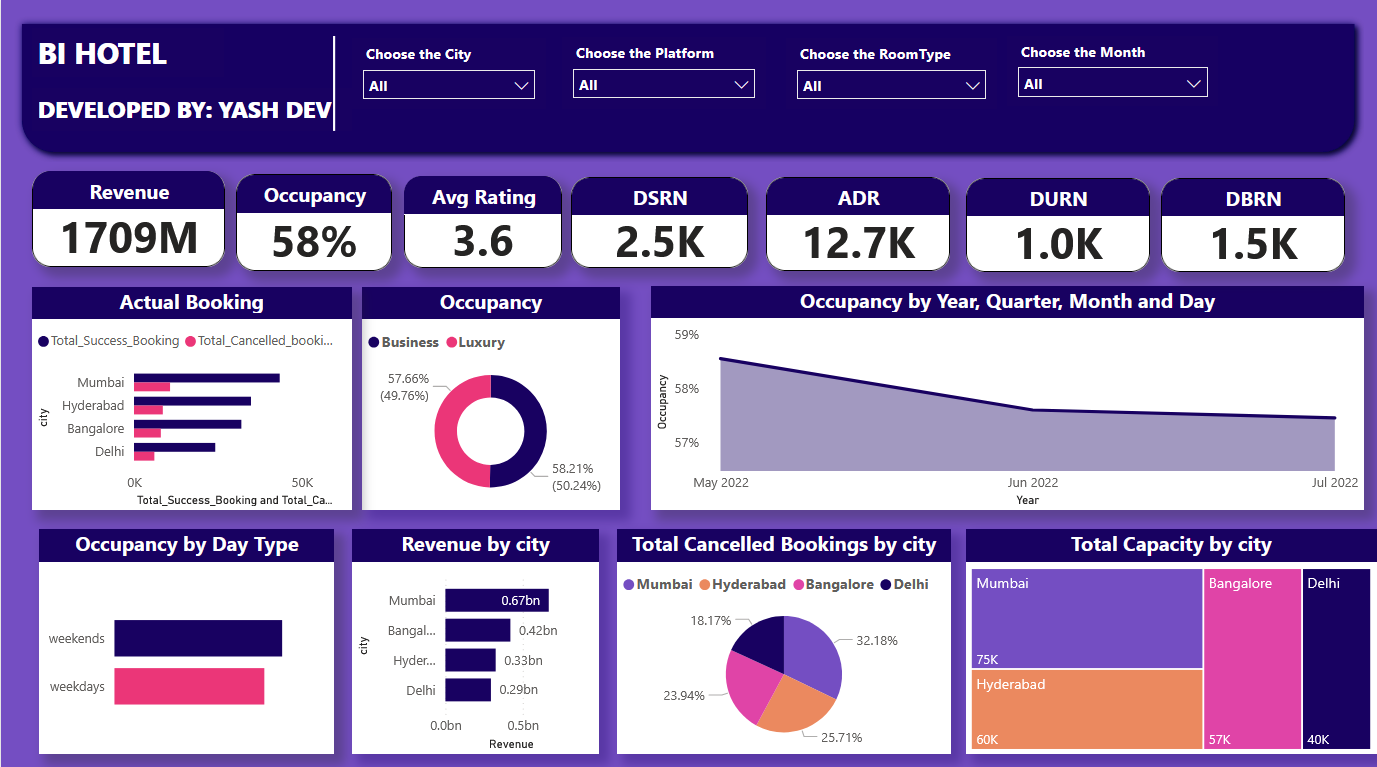

The dashboard page shown, as its layout file describes it:
{"tool":"powerbi","page":{"name":"Page 1","canvas":[1280,720],"ordinal":0},"visuals":[{"type":"shape","box":[10.8,14.8,1257.4,137.2],"z":0},{"type":"textbox","box":[29.3,28.1,178.5,45.2],"z":1000},{"type":"textbox","box":[29.6,83.4,297.2,40.3],"z":2000},{"type":"card","title":"Revenue","fields":{"Values":["key_measure_table.Revenue"]},"box":[29.5,161,179.4,89.7],"z":3000},{"type":"card","title":"Occupancy","fields":{"Values":["key_measure_table.Occupancy"]},"box":[218.7,163.4,145,89.7],"z":4000},{"type":"card","title":"Avg Rating","fields":{"Values":["key_measure_table.Avg_Rating"]},"box":[374.7,164.6,147.4,86],"z":5000},{"type":"shape","box":[219.2,35,180.2,88.8],"z":6000},{"type":"slicer","title":"Choose the City","fields":{"Values":["Hotels.city"]},"box":[326.8,37.7,180.2,65.9],"z":7000},{"type":"slicer","fields":{"Values":["Bookings.booking_platform"]},"box":[521.8,36.3,189.6,67.2],"z":8000},{"type":"slicer","fields":{"Values":["Bookings.room_category"]},"box":[730.2,37.7,196.3,65.9],"z":9000},{"type":"slicer","fields":{"Values":["Date.mmm yy"]},"box":[936.2,38.1,196.6,66.3],"z":10000},{"type":"donutChart","title":"Occupancy","fields":{"Category":["Hotels.category"],"Y":["key_measure_table.Occupancy"]},"box":[336.3,269,239.7,207.9],"z":11000},{"type":"card","title":"DSRN","fields":{"Values":["key_measure_table.DSRN"]},"box":[530.8,165.9,164.6,84.8],"z":12000},{"type":"card","title":"ADR","fields":{"Values":["key_measure_table.ADR"]},"box":[711.4,165.9,170.8,87.2],"z":13000},{"type":"clusteredBarChart","title":"Actual Booking","fields":{"Category":["Hotels.city"],"Y":["key_measure_table.Total_Success_Booking","key_measure_table.Total_Cancelled_bookings"]},"box":[29.3,269,297.1,207.9],"z":14000},{"type":"card","title":"DURN","fields":{"Values":["key_measure_table.DURN"]},"box":[898.1,167.1,170.8,87.2],"z":15000},{"type":"barChart","title":"Occupancy by Day Type","fields":{"Category":["Date.Day_Type"],"Y":["key_measure_table.Occupancy"]},"box":[34.4,493.9,275.2,208.9],"z":16000},{"type":"lineChart","fields":{"Category":["Date.mmm yy.Variation.Date Hierarchy.Year","Date.mmm yy.Variation.Date Hierarchy.Quarter","Date.mmm yy.Variation.Date Hierarchy.Month","Date.mmm yy.Variation.Date Hierarchy.Day"],"Y":["key_measure_table.Occupancy"]},"box":[604.5,267.8,663.5,208.9],"z":17000},{"type":"barChart","fields":{"Category":["Hotels.city"],"Y":["key_measure_table.Revenue"]},"box":[326.8,493.9,229.8,208.9],"z":18000},{"type":"pieChart","title":"Total Cancelled Bookings by city","fields":{"Category":["Hotels.city"],"Y":["key_measure_table.Total_Cancelled_bookings"]},"box":[573.8,493.9,310.8,208.9],"z":19000},{"type":"treemap","title":"Total Capacity by city","fields":{"Group":["Hotels.city"],"Values":["key_measure_table.Total_Capacity"]},"box":[898.1,493.9,382.1,208.9],"z":20000},{"type":"card","title":"DBRN","fields":{"Values":["key_measure_table.DBRN"]},"box":[1078.8,167.1,170.8,87.2],"z":21000}]}

Visuals, with their boxes in screenshot pixels (x1, y1, x2, y2), scaled from the page's 1280x720 canvas onto the 1377x767 screenshot:
shape: 12:16:1364:162
textbox: 32:30:224:78
textbox: 32:89:352:132
"Revenue" card: 32:172:225:267
"Occupancy" card: 235:174:391:270
"Avg Rating" card: 403:175:562:267
shape: 236:37:430:132
"Choose the City" slicer: 352:40:545:110
slicer - Bookings.booking_platform: 561:39:765:110
slicer - Bookings.room_category: 786:40:997:110
slicer - Date.mmm yy: 1007:41:1219:111
"Occupancy" donutChart: 362:287:620:508
"DSRN" card: 571:177:748:267
"ADR" card: 765:177:949:270
"Actual Booking" clusteredBarChart: 32:287:351:508
"DURN" card: 966:178:1150:271
"Occupancy by Day Type" barChart: 37:526:333:749
lineChart - Date.mmm yy.Variation.Date Hierarchy.Year x Date.mmm yy.Variation.Date Hierarchy.Quarter: 650:285:1364:508
barChart - Hotels.city x key_measure_table.Revenue: 352:526:599:749
"Total Cancelled Bookings by city" pieChart: 617:526:952:749
"Total Capacity by city" treemap: 966:526:1376:749
"DBRN" card: 1161:178:1344:271
